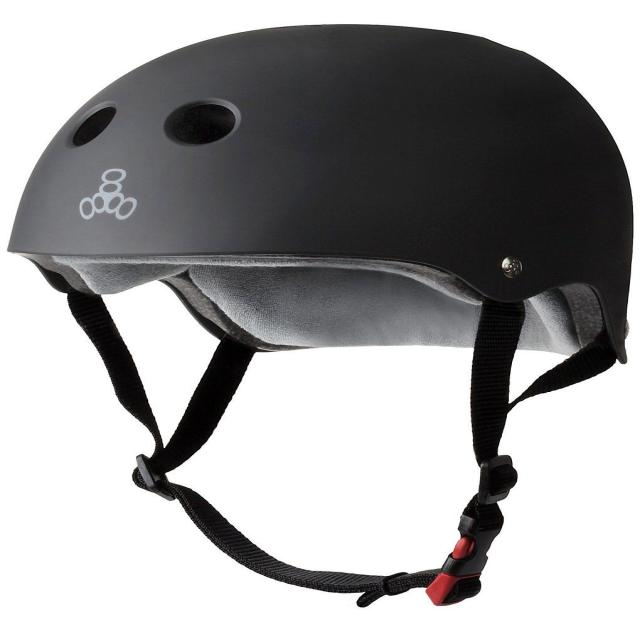Helmet: (11, 19, 637, 372)
